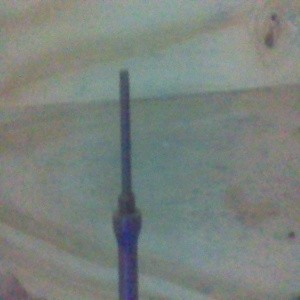obeng: (112, 68, 143, 300)
